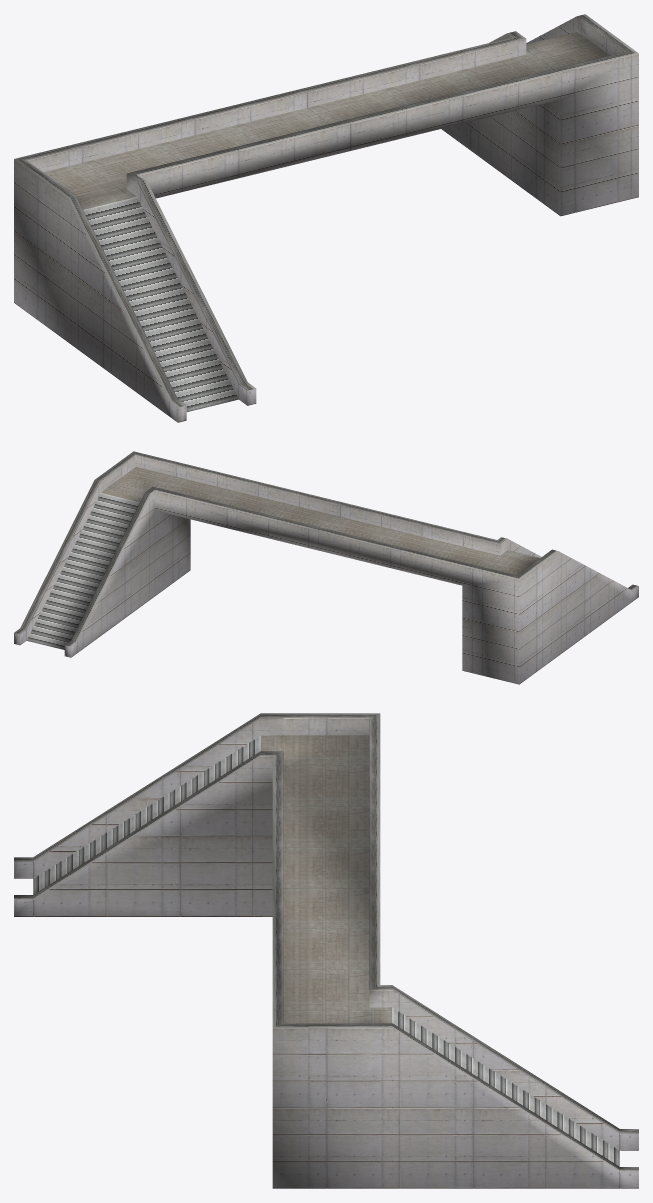
The model's file is Overpass.fbx.
3 views of the same model, one above another, from view 1: azimuth 30°, elevation 25°; view 2: azimuth 150°, elevation 25°; view 3: azimuth 270°, elevation 25° (orthographic). The views are drawn at different scales.
Parts seen in each view (by area): view 1: U3DMesh; view 2: U3DMesh; view 3: U3DMesh.
Part boxes in pixels (box(x1,y1,x2,y2)): U3DMesh: box(14, 14, 638, 422); U3DMesh: box(14, 451, 638, 684); U3DMesh: box(14, 713, 638, 1188).
Bounding box in the file's own units: 30.45 × 7.26 × 25.58.
